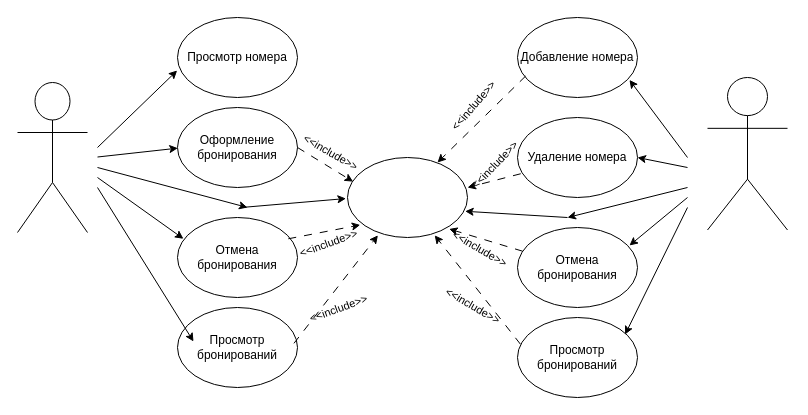
This 808x415 diagram has some shape labels left out. Each missing label, with the centre of its shape:
"Авторизация" goes at point 407,197.
"Администратор" goes at point 747,153.
"Гость" goes at point 52,157.
